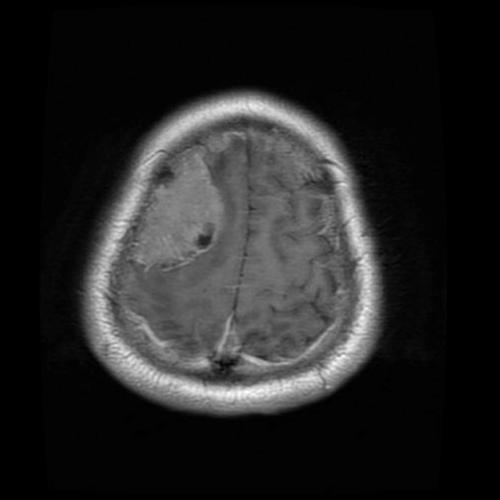Tumour-Meningioma: (104, 143, 250, 298)
